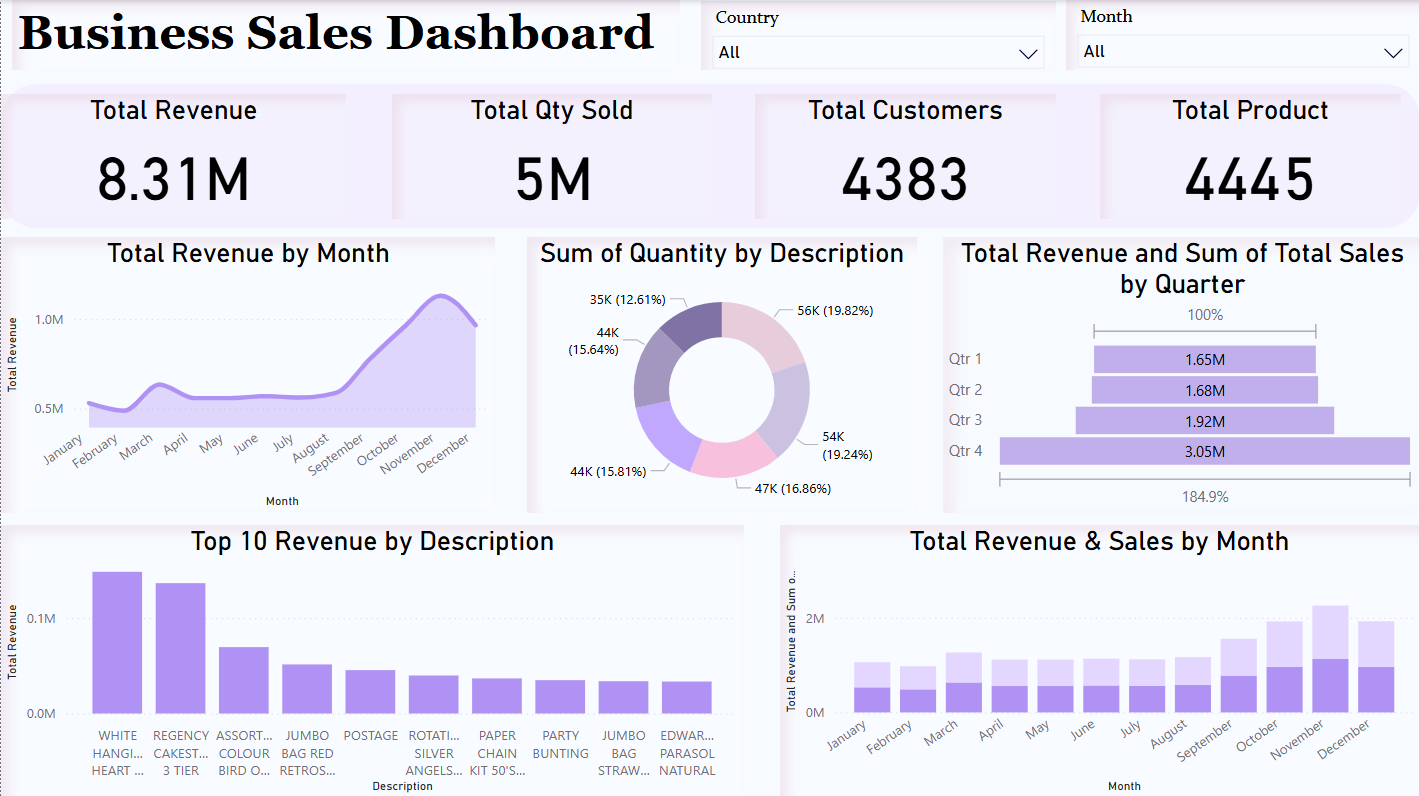

This screenshot's page, from the dashboard's own definition file:
{"tool":"powerbi","page":{"name":"Page 2","canvas":[1280,720],"ordinal":0},"visuals":[{"type":"textbox","box":[9.6,0,602.4,63.1],"z":0},{"type":"lineChart","fields":{"Y":["Date Table.Total Revenue"],"Category":["Date Table.Date.Variation.Date Hierarchy.Month"]},"box":[0,214.1,446,248.4],"z":1000},{"type":"columnChart","title":"Top 10 Revenue by Description","fields":{"Category":["Year 2009-2010.Description"],"Y":["Date Table.Total Revenue"]},"box":[0,473.4,669.6,247],"z":2000},{"type":"donutChart","fields":{"Category":["Year 2009-2010.Description"],"Y":["Sum(Year 2009-2010.Quantity)"]},"box":[474.8,214.1,351.3,248.4],"z":3000},{"type":"lineStackedColumnComboChart","title":"Total Revenue & Sales by Month","fields":{"Y":["Date Table.Total Revenue","Sum(Year 2009-2010.Total Sales)"],"Category":["Date Table.Date.Variation.Date Hierarchy.Month"]},"box":[702.6,473.4,576.3,247],"z":4000},{"type":"funnel","fields":{"Category":["Date Table.Date.Variation.Date Hierarchy.Quarter"],"Y":["Date Table.Total Revenue"]},"box":[849.4,214.1,430.9,248.4],"z":5000},{"type":"shape","box":[0,75.5,1280.3,130.4],"z":6000},{"type":"card","title":"Total Revenue","fields":{"Values":["Date Table.Total Revenue"]},"box":[0,85.1,311.5,112.5],"z":7000},{"type":"card","title":"Total Customers","fields":{"Values":["Date Table.Distinct Customers"]},"box":[679.2,85.1,271.7,112.5],"z":8000},{"type":"card","title":"Total Qty Sold","fields":{"Values":["Date Table.Total Quantity Sold"]},"box":[352.7,85.1,288.2,112.5],"z":9000},{"type":"card","title":"Total Product","fields":{"Values":["Count(Year 2009-2010.Description)"]},"box":[990.7,85.1,271.7,112.5],"z":10000},{"type":"slicer","fields":{"Values":["Year 2009-2010.Country"]},"box":[631.2,1.4,319.7,61.7],"z":11000},{"type":"slicer","fields":{"Values":["Date Table.Date.Variation.Date Hierarchy.Month"]},"box":[960.6,0,319.7,63.1],"z":12000}]}

Visuals, with their boxes in screenshot pixels (x1, y1, x2, y2), scaled from the page's 1280x720 canvas onto the 1419x796 screenshot:
textbox: detection(11, 0, 678, 70)
lineChart - Date Table.Total Revenue x Date Table.Date.Variation.Date Hierarchy.Month: detection(0, 237, 494, 511)
"Top 10 Revenue by Description" columnChart: detection(0, 523, 742, 795)
donutChart - Year 2009-2010.Description x Sum(Year 2009-2010.Quantity): detection(526, 237, 916, 511)
"Total Revenue & Sales by Month" lineStackedColumnComboChart: detection(779, 523, 1418, 795)
funnel - Date Table.Date.Variation.Date Hierarchy.Quarter x Date Table.Total Revenue: detection(942, 237, 1418, 511)
shape: detection(0, 83, 1418, 228)
"Total Revenue" card: detection(0, 94, 345, 218)
"Total Customers" card: detection(753, 94, 1054, 218)
"Total Qty Sold" card: detection(391, 94, 710, 218)
"Total Product" card: detection(1098, 94, 1399, 218)
slicer - Year 2009-2010.Country: detection(700, 2, 1054, 70)
slicer - Date Table.Date.Variation.Date Hierarchy.Month: detection(1065, 0, 1418, 70)
